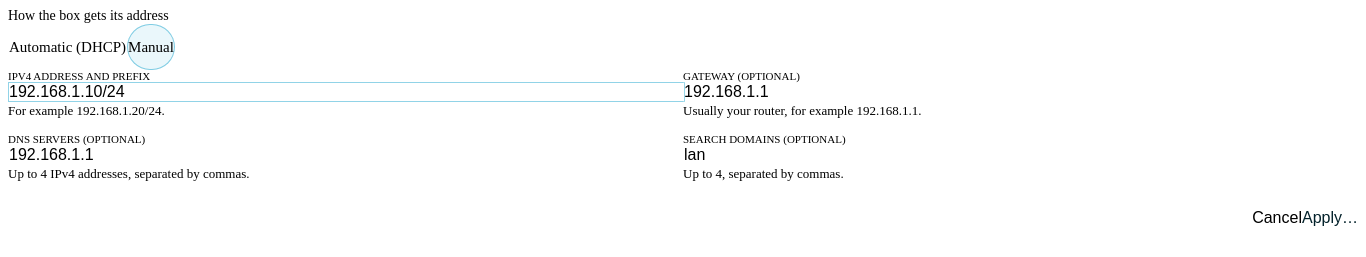
it: NetworkForm › refuses a bare address, a bad gateway and lists over 4, before any code
Step 1. Replace the text in the field with class "admin-field__input" showing "IPv4 address and prefix" with "192.168.1.20" → [346, 92], box [8,82,685,102]
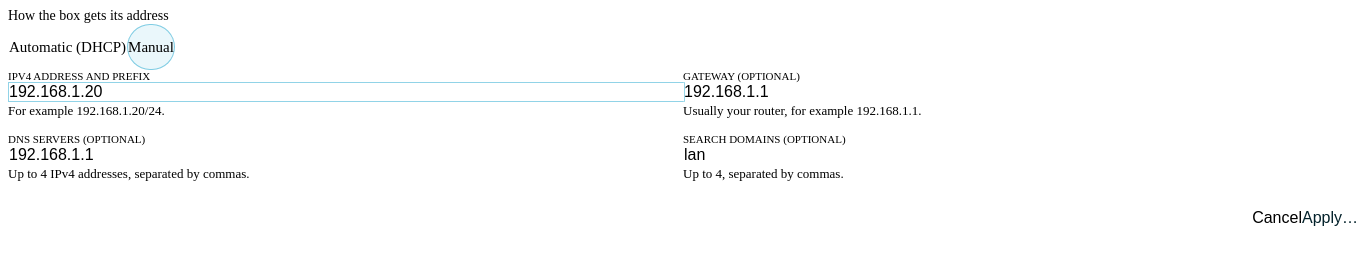
Step 2. Replace the text in the field with class "admin-field__input" showing "Gateway (optional)" with "192.168.1" → [1022, 92], box [683,82,1360,102]
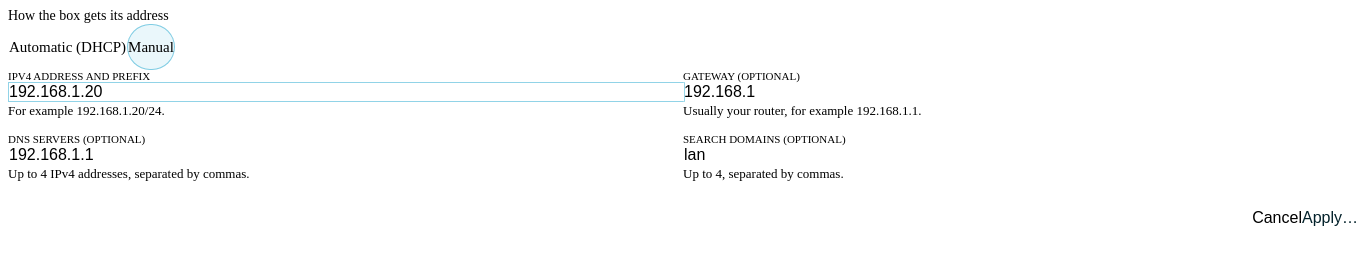
Step 3. Replace the text in the field with class "admin-field__input" showing "DNS servers (optional)" with "1.1.1.1, 8.8.8.8, 9.9.9.9, 1.0.0.1, 8.8.4.4" → [346, 155], box [8,145,685,165]
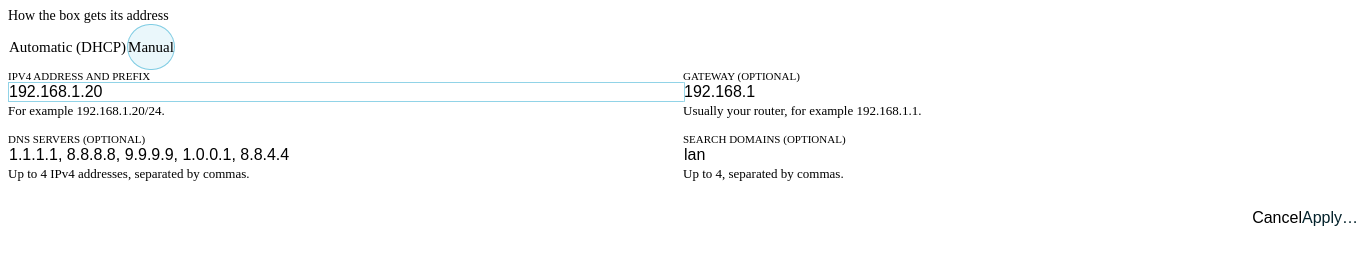
Step 4. Replace the text in the field with class "admin-field__input" showing "Search domains (optional)" with "-bad" → [1022, 155], box [683,145,1360,165]
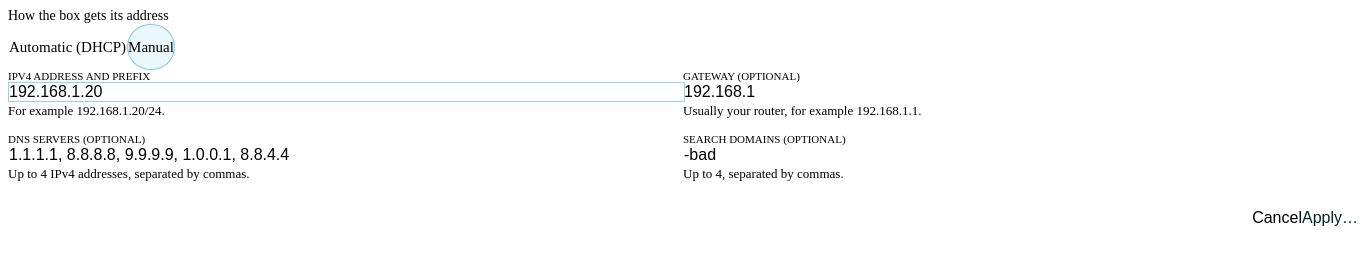
Step 5. Submit the form
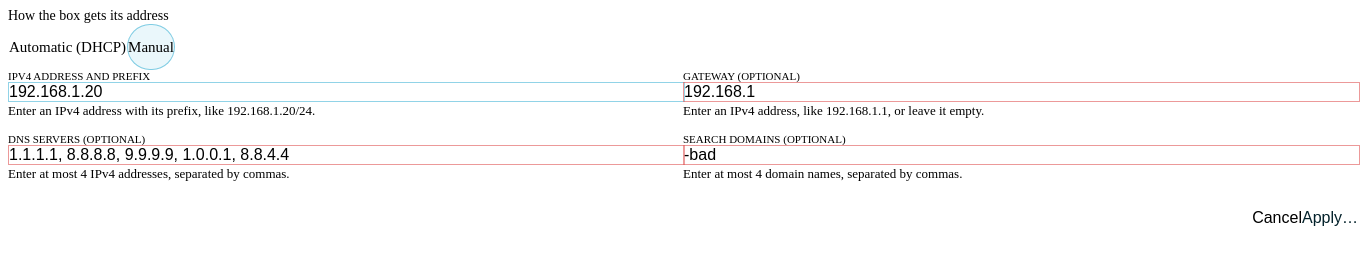
Expected: the elements with class "net-form__note--error" read "Enter an IPv4 address with its prefix, like 192.168.1.20/24.", "Enter an IPv4 address, like 192.168.1.1, or leave it empty.", "Enter at most 4 IPv4 addresses, separated by commas.", "Enter at most 4 domain names, separated by commas.", in this order, [8,103,315,118]; [683,103,984,118]; [8,166,290,181]; [683,166,962,181]
